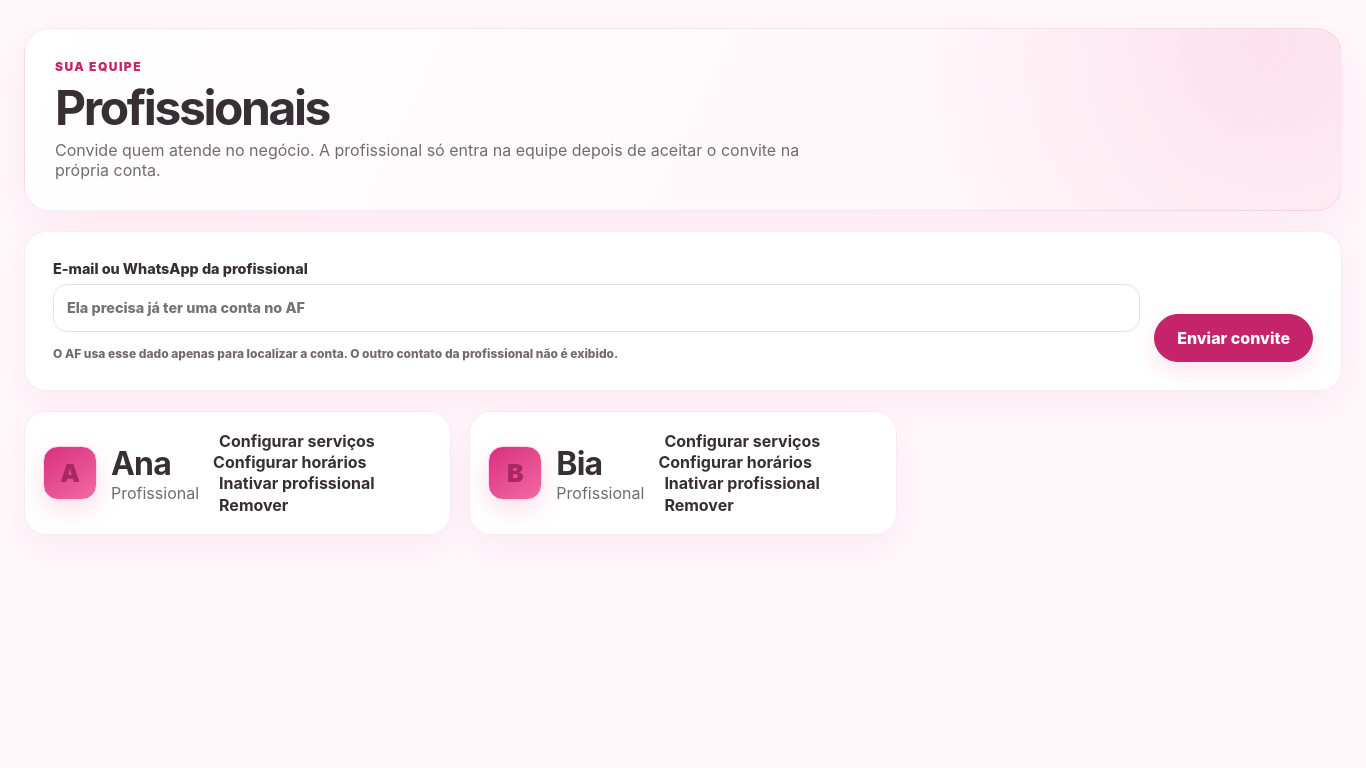
it: isolamento do editor de serviços da equipe › reabrir a mesma pessoa usa uma nova leitura e ignora a anterior
The image size is (1366, 768).
Click the button "Configurar serviços" next to "Ana" at [297, 441], box [213, 430, 381, 452]
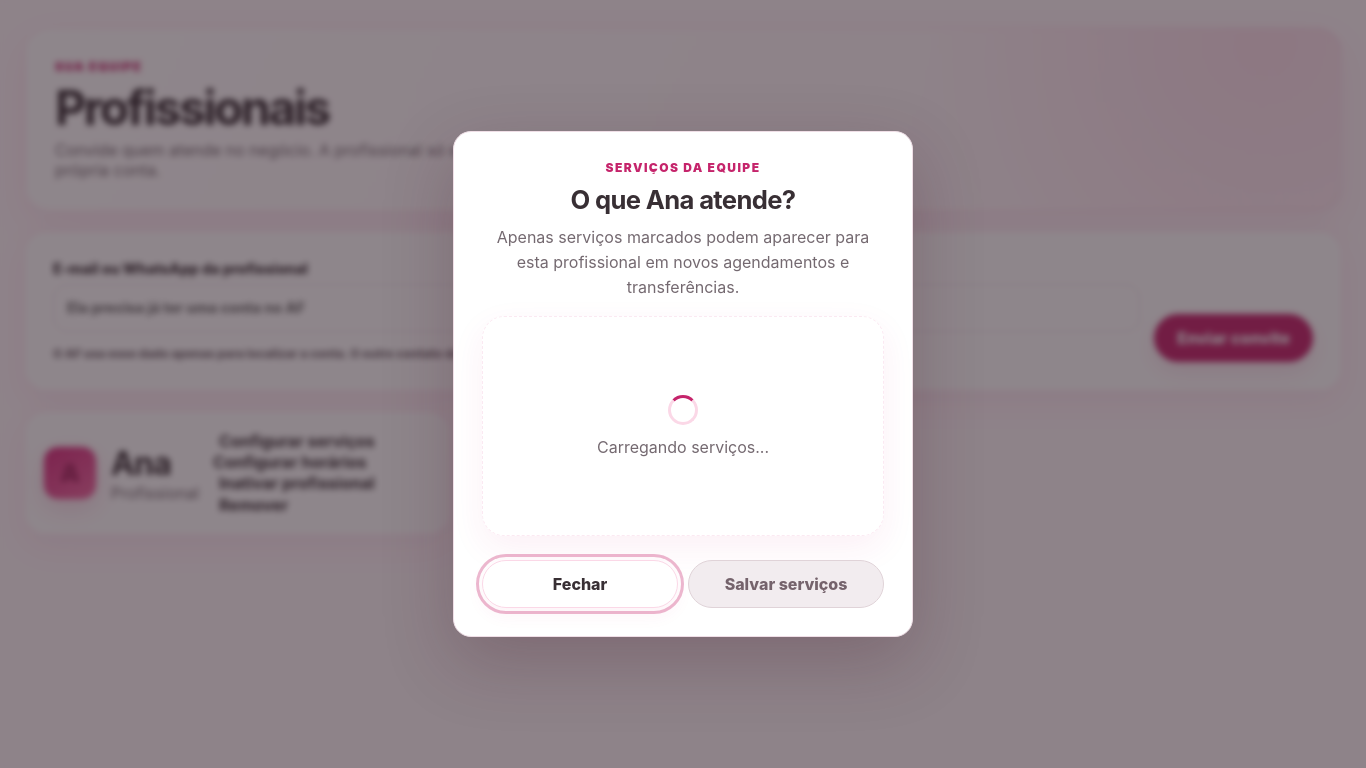
Click the button "Fechar" at [580, 584], box [482, 560, 678, 608]
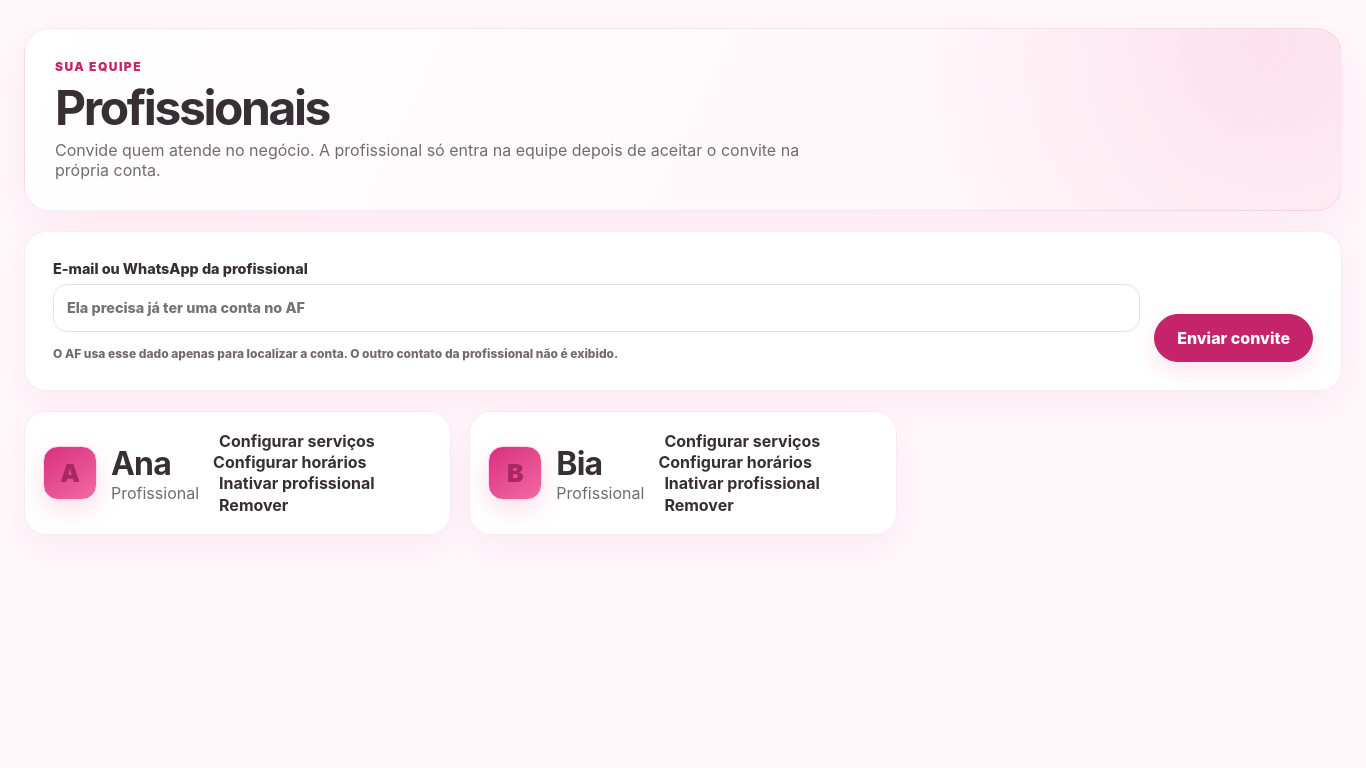
Click the button "Configurar serviços" next to "Ana" at [297, 441], box [213, 430, 381, 452]
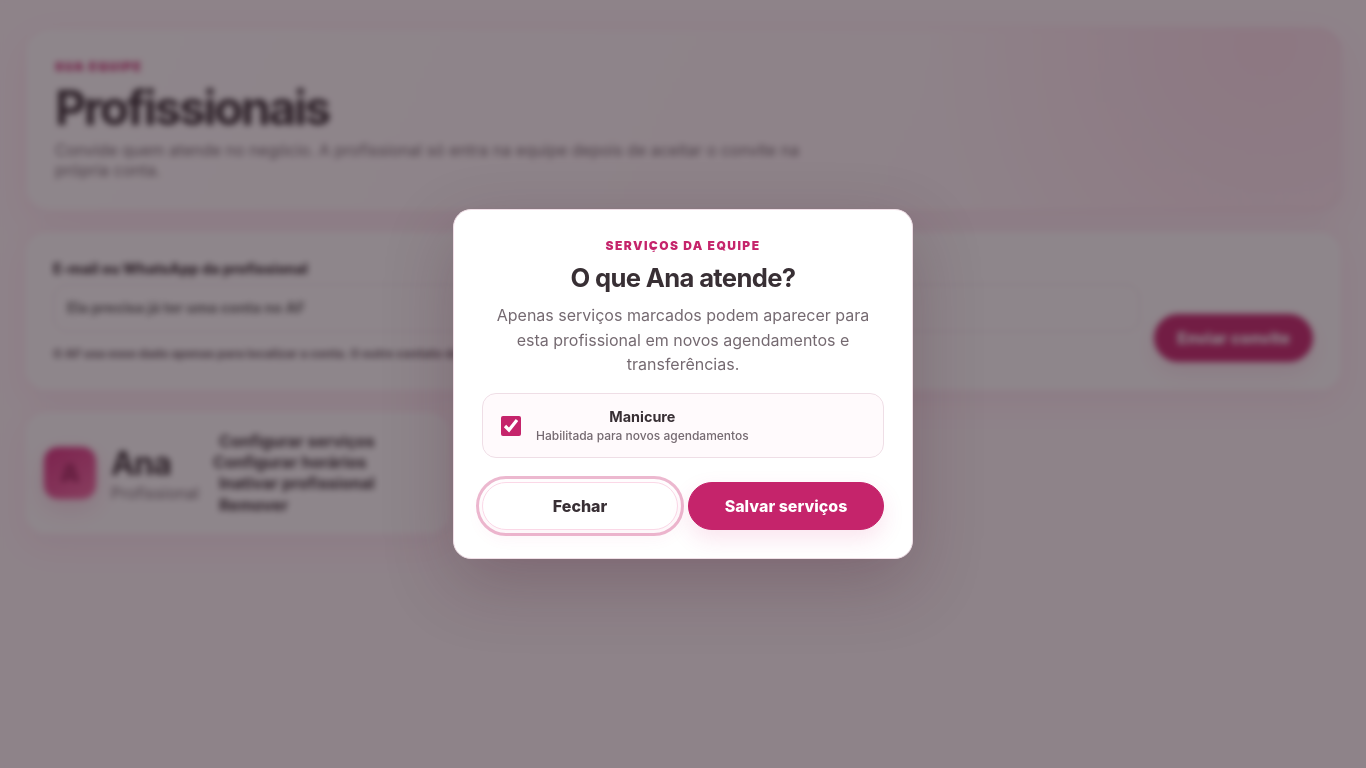
Expected: the checkbox is checked, [501, 416, 521, 436]
